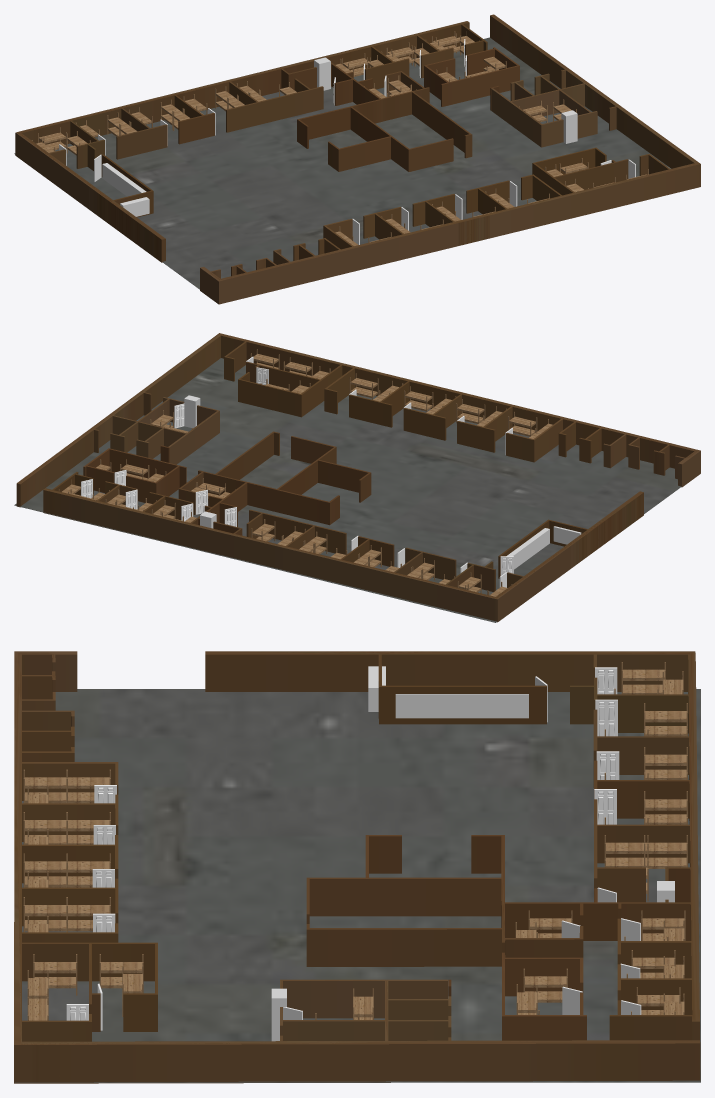
Rendered from sally_bh.glb.
3 views of the same model, one above another, from view 1: azimuth 30°, elevation 25°; view 2: azimuth 150°, elevation 25°; view 3: azimuth 270°, elevation 25° (orthographic). The views are drawn at different scales.
Parts seen in each view (by area): view 1: path2, Floor, Cut_window1, Cut_window1.002; view 2: path2, Floor, Cut_window1; view 3: path2, Floor, Cut_window1, Door.003, Door.004, Door.002.
Part boxes in pixels (left/top/right/bottom): path2: left=15, top=14, right=700, bottom=304; Floor: left=14, top=37, right=670, bottom=289; Cut_window1: left=102, top=163, right=146, bottom=196; Cut_window1.002: left=561, top=110, right=577, bottom=143; path2: left=16, top=333, right=700, bottom=622; Floor: left=14, top=358, right=681, bottom=622; Cut_window1: left=506, top=528, right=549, bottom=569; path2: left=14, top=651, right=700, bottom=1083; Floor: left=15, top=689, right=700, bottom=1082; Cut_window1: left=395, top=694, right=528, bottom=718; Door.003: left=595, top=699, right=617, bottom=736; Door.004: left=594, top=789, right=616, bottom=824; Door.002: left=596, top=751, right=619, bottom=779.
Size of the model in its own units: 42 by 2.51 by 30.95.
Materials: 5 (3 with a texture image).
